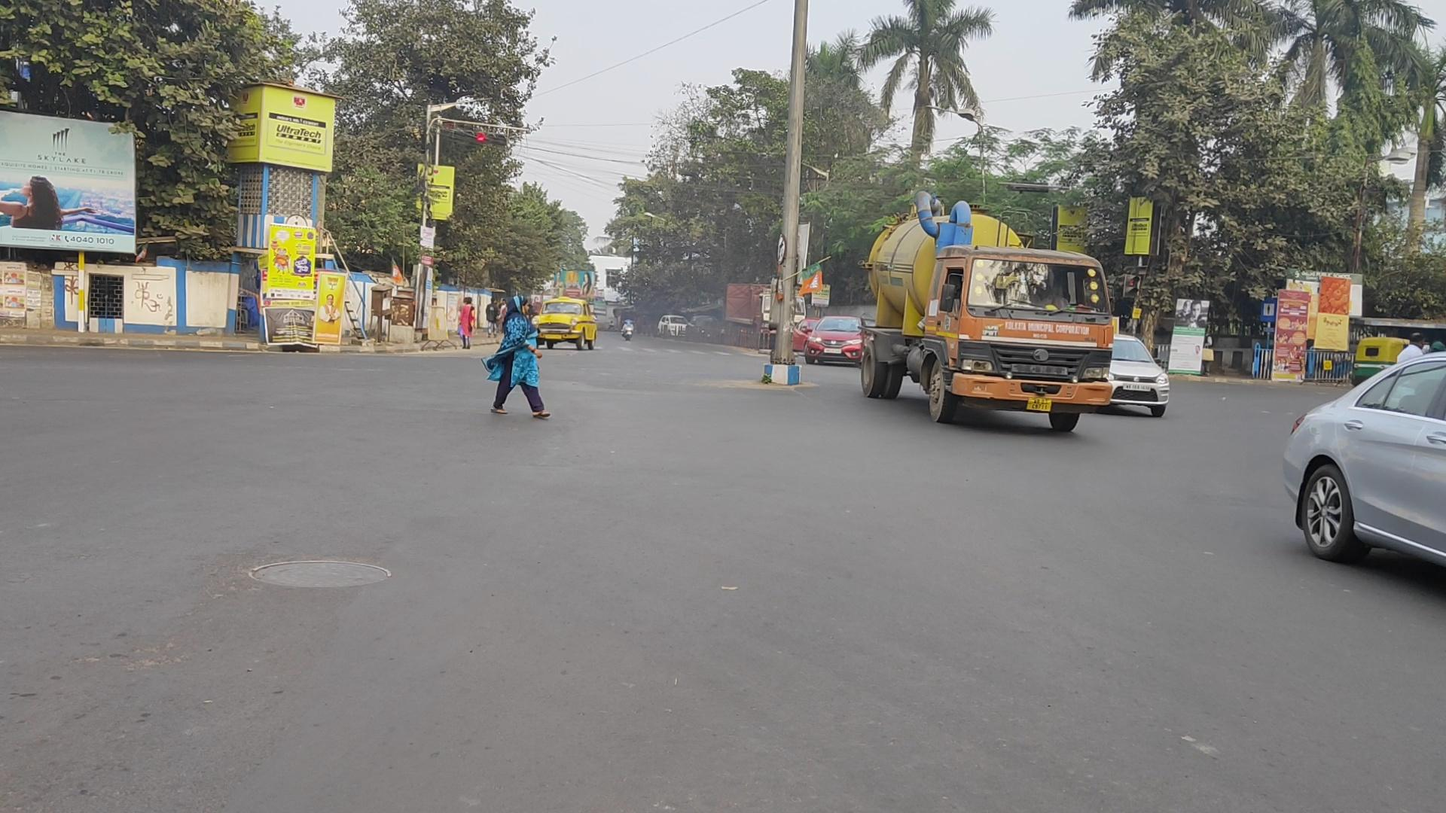Auto: (1351, 336, 1411, 387)
bike: (621, 314, 636, 342)
car: (1283, 346, 1446, 589), (1110, 333, 1172, 420), (532, 296, 597, 351), (805, 315, 866, 368), (657, 314, 694, 339)
truck: (860, 190, 1114, 435), (723, 282, 805, 347)
